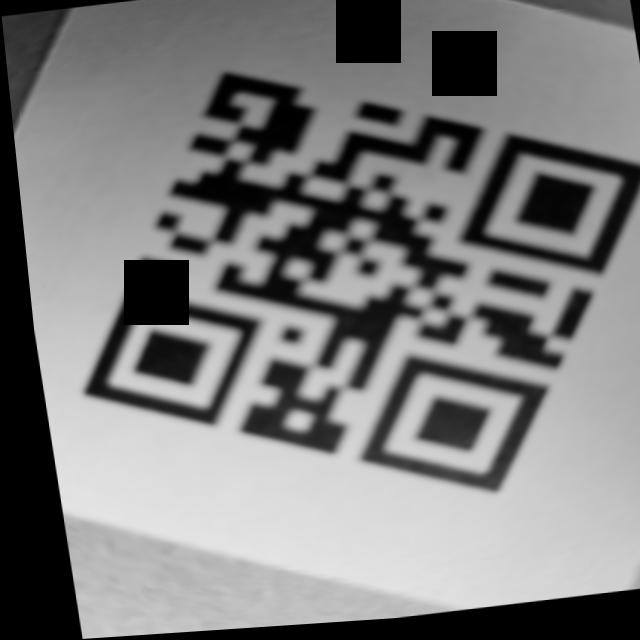QR_CODE: (8, 8, 640, 593)
